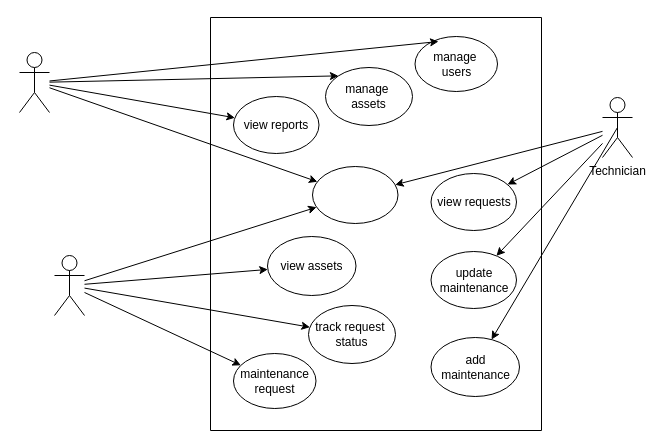
The diagram is 663 pixels wide and 448 high, and some of its shapes have lost their labels. Each missing label, with the box of its shape:
Admin: (18, 52, 50, 112)
login: (312, 166, 398, 224)
user: (54, 254, 84, 316)
